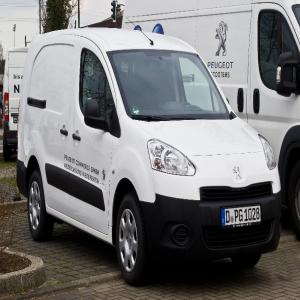Vehicle-registration-plate: (220, 204, 262, 230)
